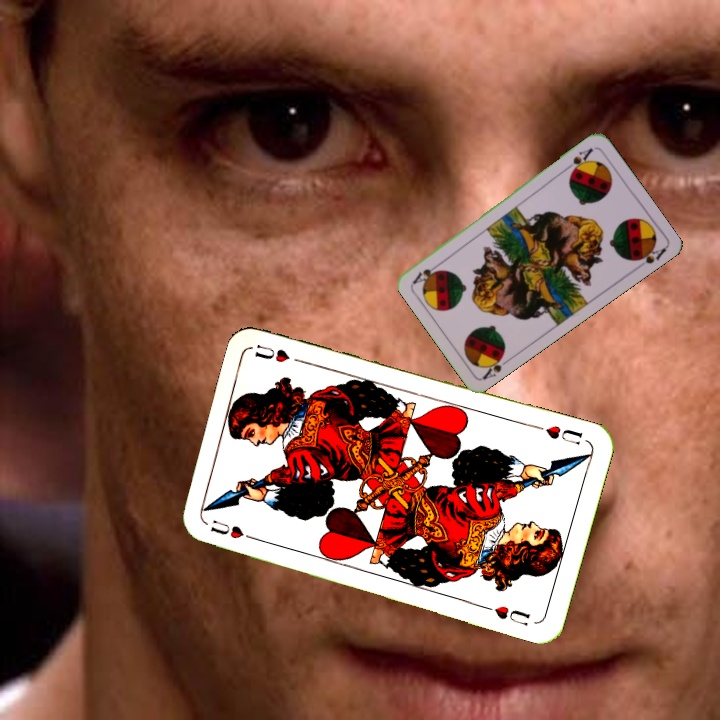HU: (531, 421, 585, 448), (206, 516, 247, 542)
SA: (478, 347, 514, 382), (561, 144, 596, 177)
